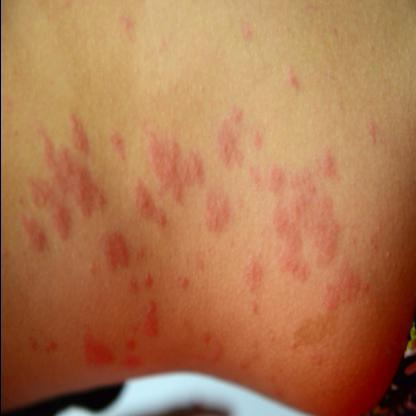Bed Bug: (19, 106, 105, 256), (266, 143, 333, 281), (127, 122, 202, 236), (78, 314, 113, 382), (26, 306, 65, 364), (337, 222, 377, 278), (204, 180, 235, 250), (241, 237, 263, 319), (217, 102, 242, 174), (316, 282, 358, 324), (172, 252, 202, 301), (106, 220, 128, 284), (127, 247, 154, 295), (118, 314, 138, 377), (116, 1, 142, 46), (266, 347, 284, 404), (195, 332, 223, 366), (107, 119, 125, 168), (142, 300, 158, 348), (362, 112, 382, 150), (307, 346, 333, 371), (235, 342, 254, 376), (246, 162, 262, 202), (282, 62, 300, 97), (78, 258, 101, 284), (2, 76, 14, 124), (151, 30, 168, 62), (236, 20, 252, 49), (247, 128, 261, 157)
